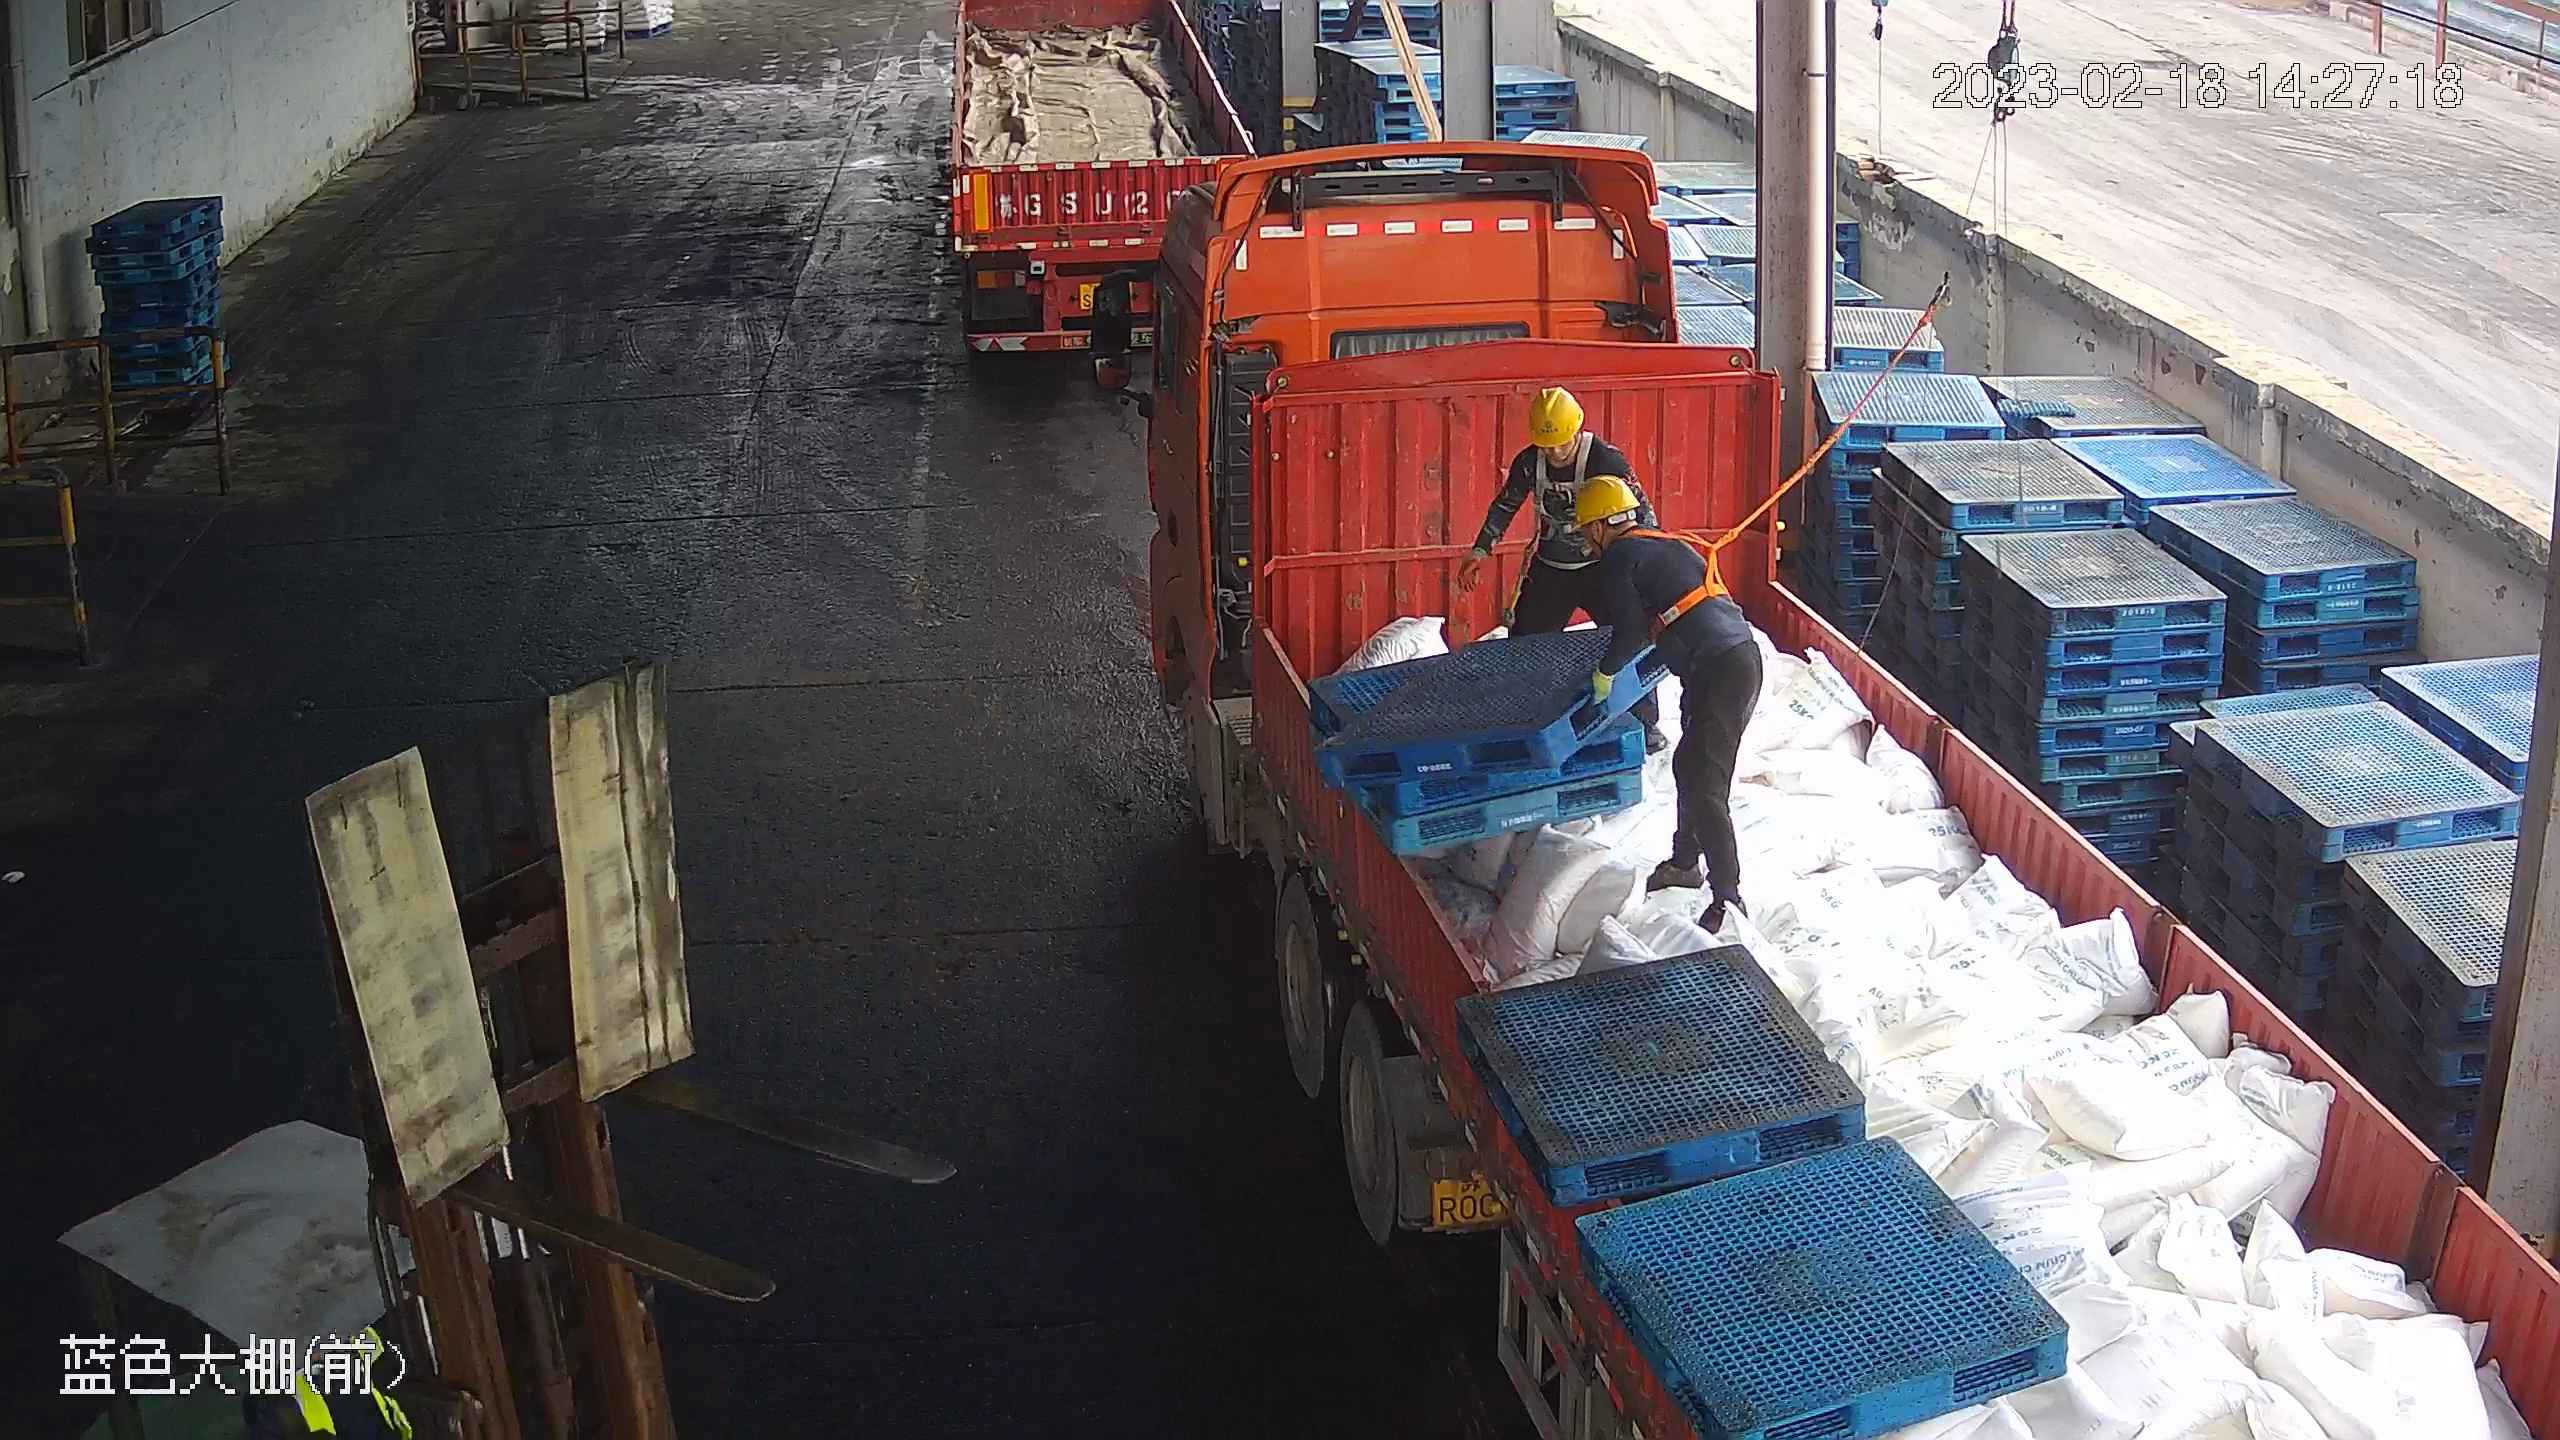belt: (1628, 518, 1741, 619), (1523, 433, 1602, 520)
head: (1575, 470, 1702, 586), (1502, 387, 1639, 485)
helmet: (1573, 473, 1639, 531), (1528, 387, 1587, 449)
people: (1578, 472, 1766, 930), (1458, 384, 1673, 757)
truck: (1088, 142, 2560, 1440), (939, 6, 1266, 386)
